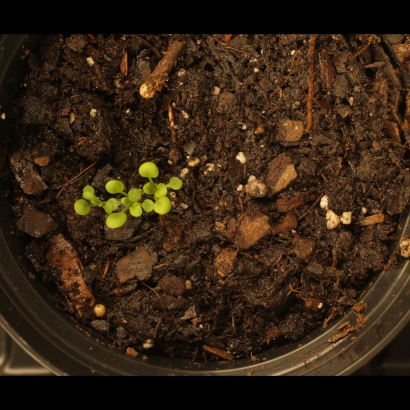leaf: (168, 169, 191, 192), (137, 159, 160, 182), (152, 197, 175, 220), (151, 179, 174, 202), (140, 176, 163, 199), (140, 195, 163, 218), (127, 181, 150, 204), (130, 198, 153, 221), (106, 210, 129, 233), (115, 191, 138, 214), (105, 175, 128, 198), (103, 194, 126, 217), (68, 199, 91, 222), (77, 183, 100, 206)
